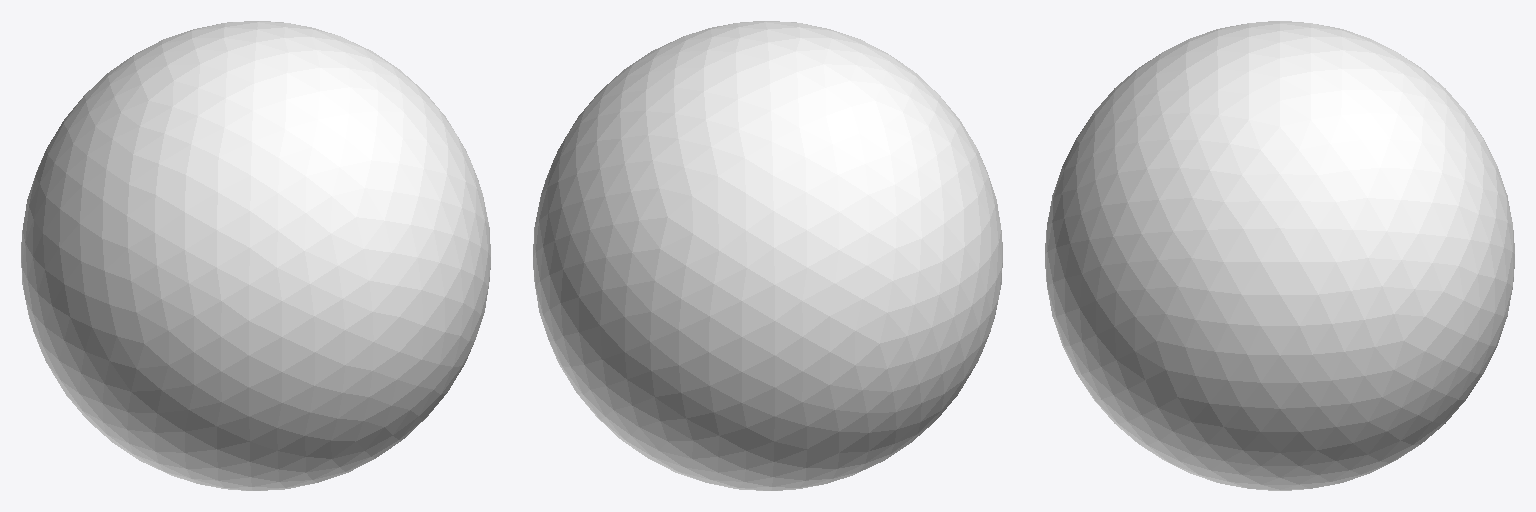
Rendered from asset_00eb6aa7-55be-4164-a743-657abff21dae.obj.
The picture shows the model from 3 angles: view 1: azimuth 30°, elevation 25°; view 2: azimuth 150°, elevation 25°; view 3: azimuth 270°, elevation 25°; orthographic projection.
Size of the model in its own units: 1 by 1 by 1.